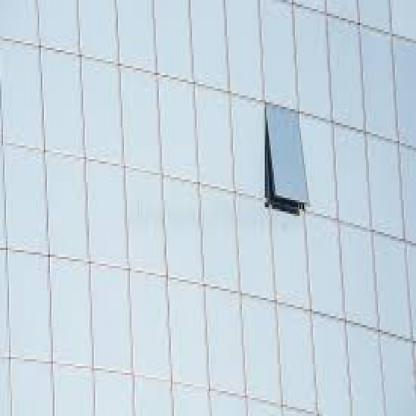window: (54, 268, 85, 362), (48, 61, 80, 147), (86, 66, 117, 150), (162, 84, 192, 168), (52, 162, 80, 252), (136, 282, 164, 370), (240, 204, 268, 288), (174, 289, 200, 377), (92, 171, 119, 254), (126, 75, 152, 161), (97, 275, 122, 364), (300, 13, 324, 104), (170, 188, 196, 270), (206, 200, 233, 277), (212, 298, 237, 380), (247, 309, 272, 391), (132, 182, 157, 264), (201, 100, 227, 177), (368, 34, 390, 123), (283, 318, 307, 398), (318, 330, 342, 407), (348, 238, 372, 314), (313, 227, 336, 305), (278, 223, 301, 298), (375, 143, 395, 223), (356, 337, 376, 409), (342, 141, 361, 216), (380, 252, 399, 321)
